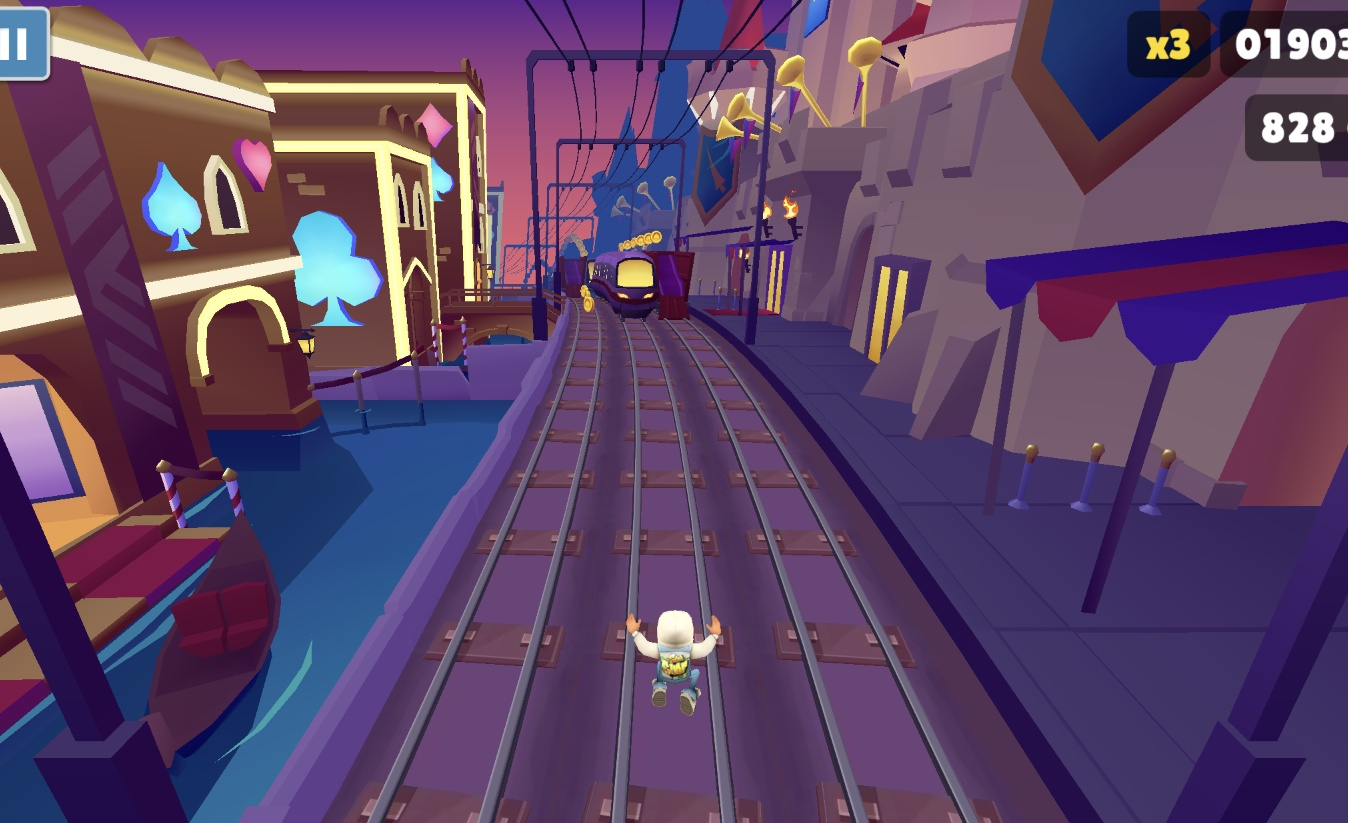train: (585, 250, 661, 319), (656, 251, 697, 321), (561, 259, 591, 298)
